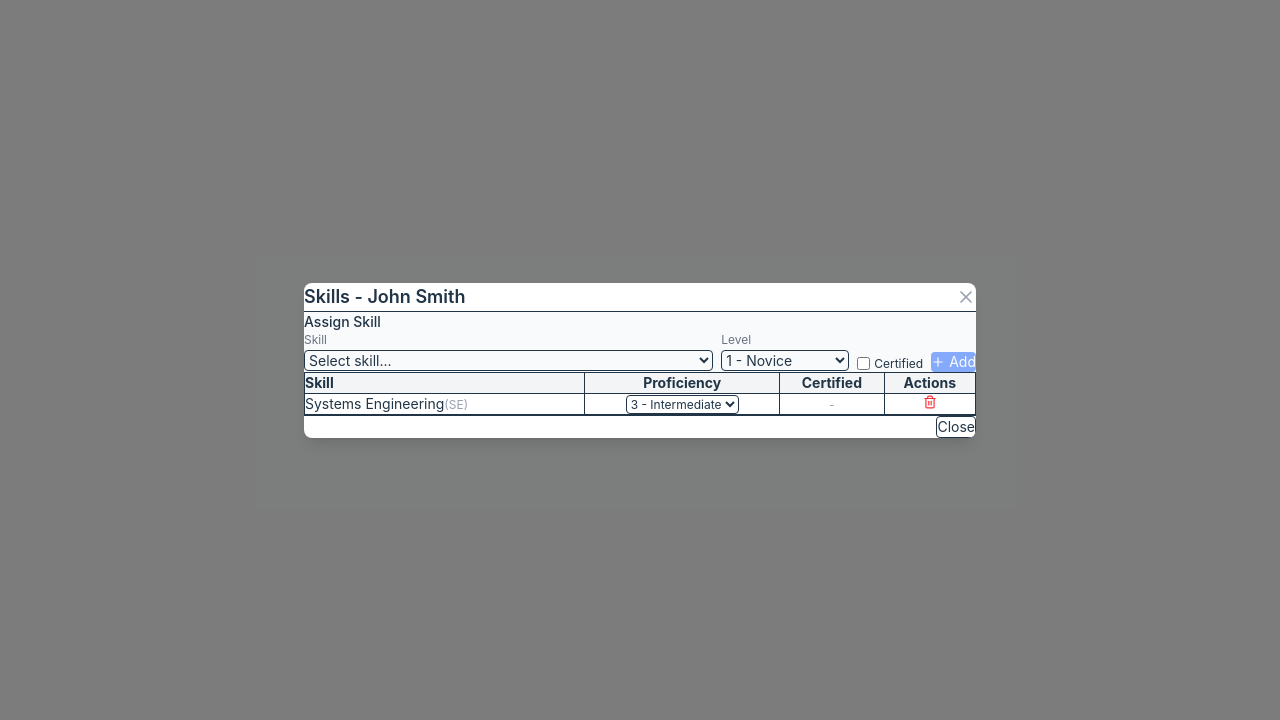
Test: ResourceSkillsModal › shows error toast on remove failure
Click the button named "Remove skill": [930, 402] box [923,394,937,408]
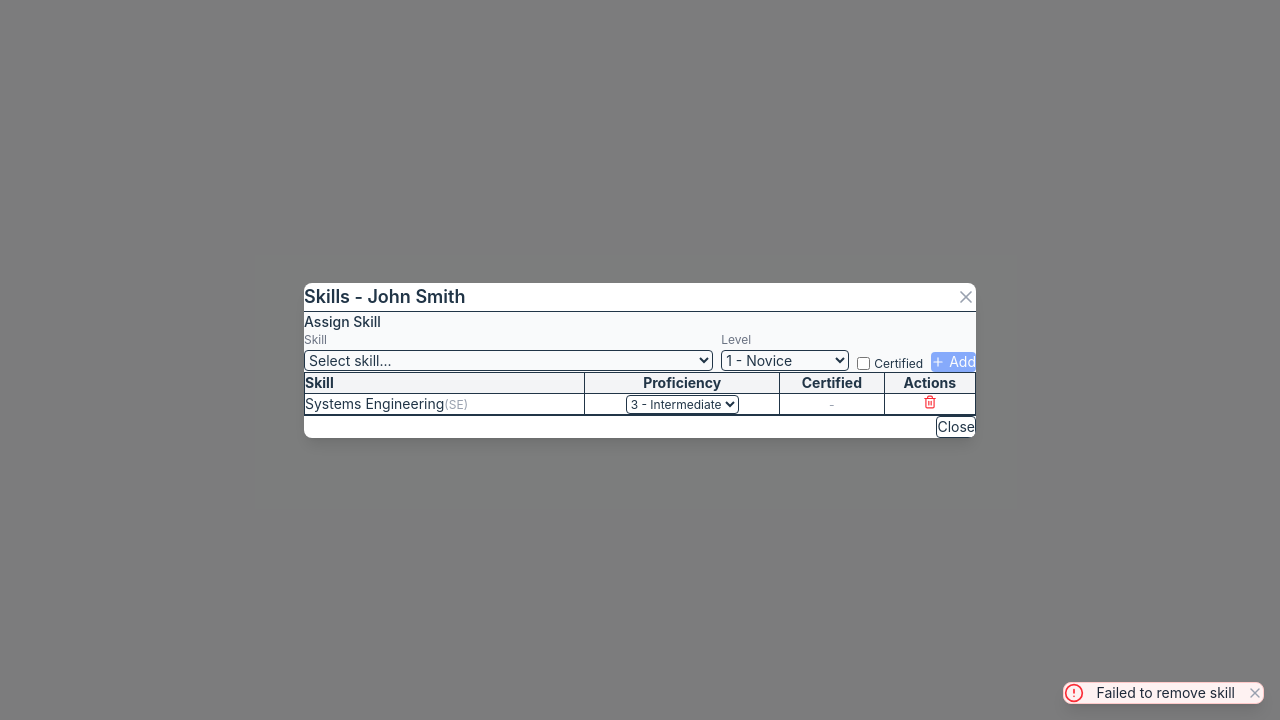
Check: the text "Failed to remove skill" is shown, box [1096,683,1235,703]
